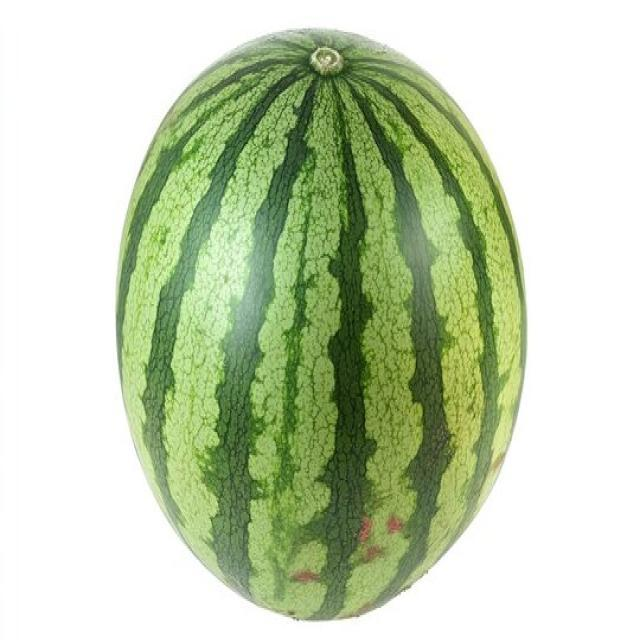Watermelon: (110, 28, 526, 616)
